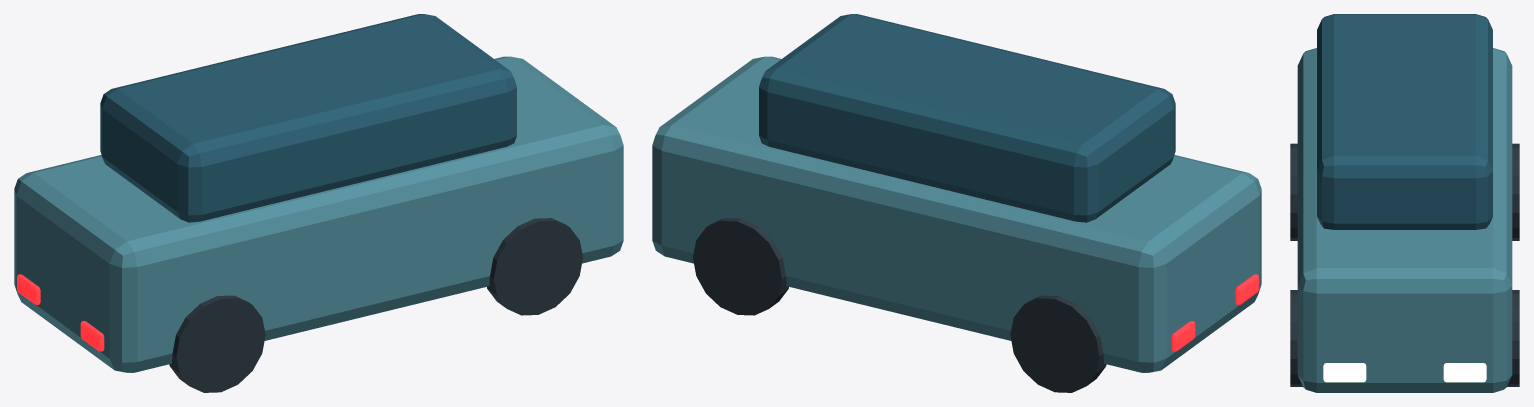
File: municipal-van.glb
The picture shows the model from 3 angles, left to right: view 1: azimuth 30°, elevation 25°; view 2: azimuth 150°, elevation 25°; view 3: azimuth 270°, elevation 25°; orthographic projection. The views are drawn at different scales.
Visible parts, largest first — view 1: MunicipalVanLowerBody, MunicipalVanCabin, MunicipalVanWheel_1_0, MunicipalVanWheel_0_0; view 2: MunicipalVanLowerBody, MunicipalVanCabin, MunicipalVanWheel_1_1, MunicipalVanWheel_0_1; view 3: MunicipalVanLowerBody, MunicipalVanCabin, MunicipalVanHeadlight_0, MunicipalVanHeadlight_1, MunicipalVanWheel_1_0, MunicipalVanWheel_1_1, MunicipalVanWheel_0_0, MunicipalVanWheel_0_1.
Boxes of the visible parts, bbox=[...] form: MunicipalVanLowerBody: bbox=[14, 56, 623, 372]; MunicipalVanCabin: bbox=[100, 14, 516, 222]; MunicipalVanWheel_1_0: bbox=[487, 218, 582, 315]; MunicipalVanWheel_0_0: bbox=[169, 295, 265, 392]; MunicipalVanLowerBody: bbox=[652, 56, 1261, 372]; MunicipalVanCabin: bbox=[759, 14, 1175, 222]; MunicipalVanWheel_1_1: bbox=[693, 218, 788, 315]; MunicipalVanWheel_0_1: bbox=[1010, 295, 1106, 392]; MunicipalVanLowerBody: bbox=[1297, 48, 1512, 392]; MunicipalVanCabin: bbox=[1317, 14, 1492, 229]; MunicipalVanHeadlight_0: bbox=[1323, 363, 1366, 382]; MunicipalVanHeadlight_1: bbox=[1443, 363, 1486, 382]; MunicipalVanWheel_1_0: bbox=[1290, 290, 1302, 386]; MunicipalVanWheel_1_1: bbox=[1507, 290, 1519, 386]; MunicipalVanWheel_0_0: bbox=[1290, 143, 1297, 240]; MunicipalVanWheel_0_1: bbox=[1512, 143, 1519, 240].
Bounding box in the file's own units: 5.36 × 2.28 × 2.16.
